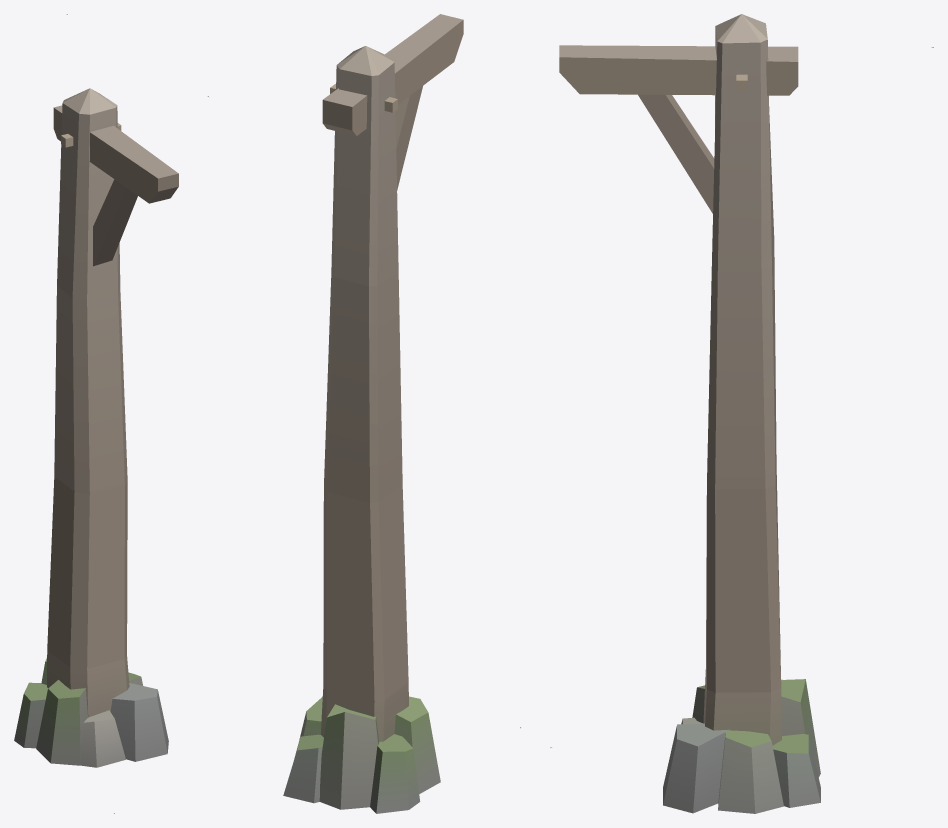
The model's file is CreekLanternPost_bark.glb.
The picture shows the model from 3 angles, left to right: view 1: azimuth 30°, elevation 25°; view 2: azimuth 150°, elevation 25°; view 3: azimuth 270°, elevation 25°; orthographic projection. The views are drawn at different scales.
Visible parts, largest first — view 1: CreekLanternPost_bark; view 2: CreekLanternPost_bark; view 3: CreekLanternPost_bark.
Boxes of the visible parts, x1,y1,x2,y2 form: CreekLanternPost_bark: [14, 14, 178, 813]; CreekLanternPost_bark: [207, 14, 520, 813]; CreekLanternPost_bark: [550, 14, 933, 813].
Size of the model in its own units: 1.4 by 7.5 by 3.4.
